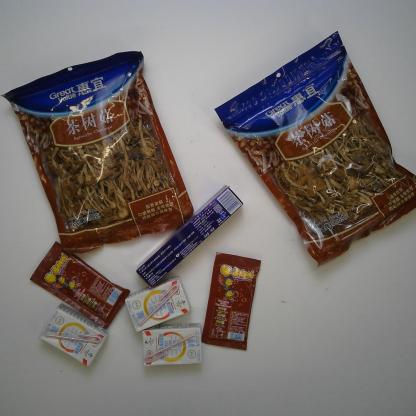Candy: (29, 239, 131, 332), (200, 252, 262, 351)
Dried Food: (211, 27, 416, 272), (0, 46, 194, 257)
Milk: (36, 303, 109, 368), (123, 274, 193, 334), (140, 322, 204, 367)
Personal Hygiene: (134, 184, 245, 288)
